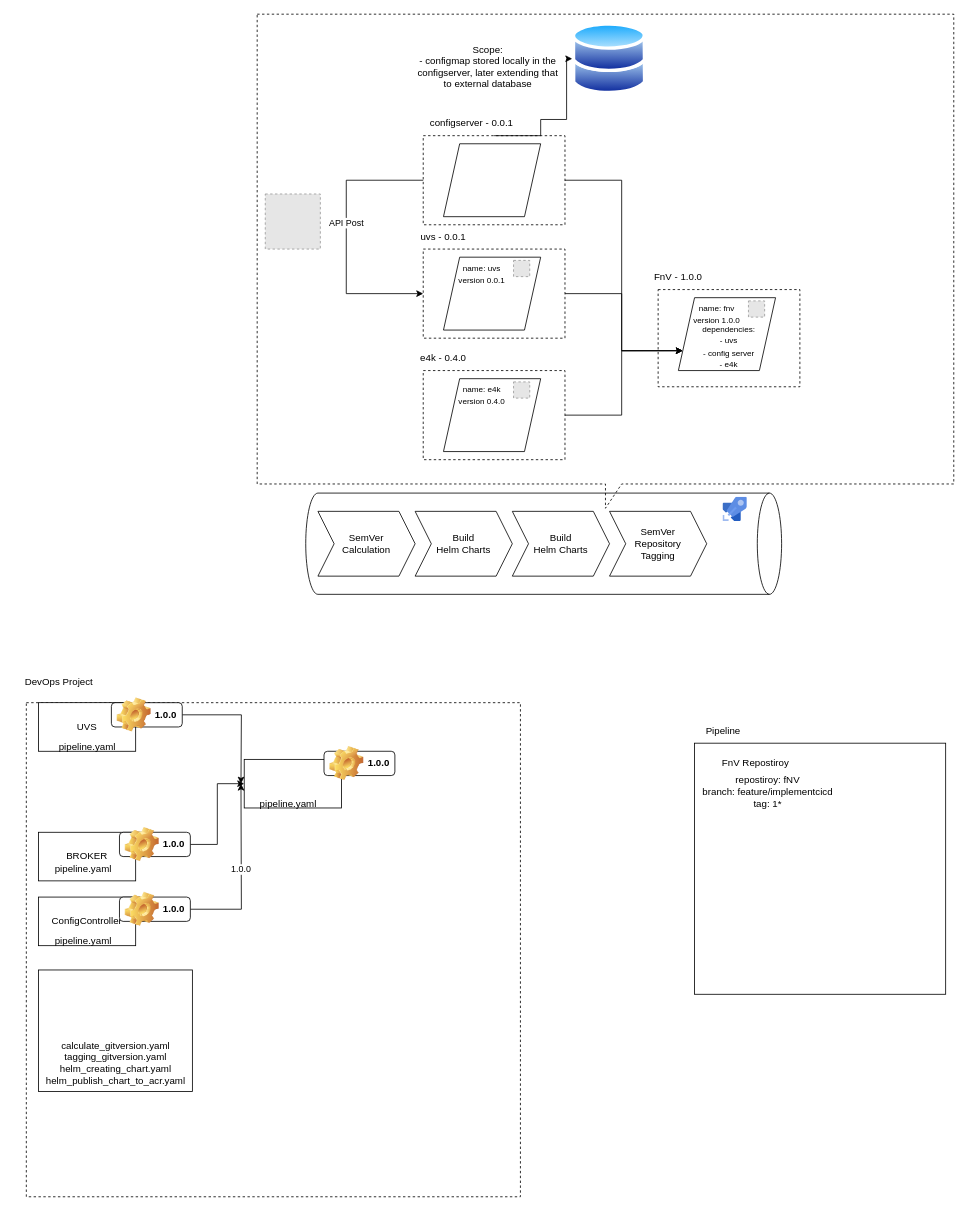
Image size: 968x1211. Some labels were removed from this diagram. Grey dashed boxes stand in for pictures. The box of each missing label's shape, as (x1, y1, x2, y2) in pixels:
FnV: (243, 759, 341, 808)
name: configserver version 0.0.1: (443, 143, 541, 217)
Shared ADO Templates: (38, 969, 192, 1091)
